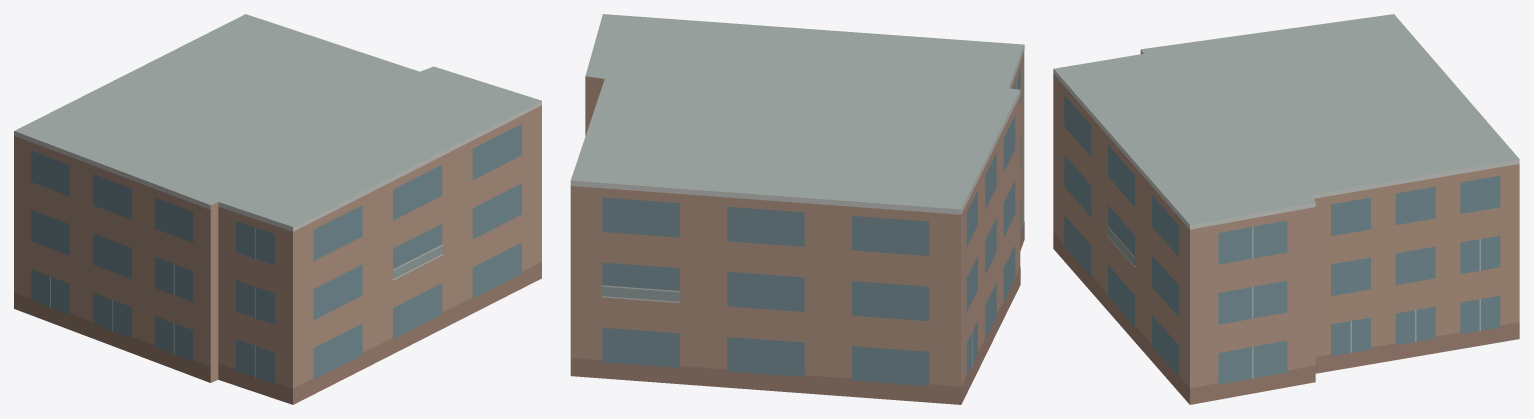
Rendered from survey-upis-32659093.glb.
The picture shows the model from 3 angles, left to right: view 1: azimuth 30°, elevation 25°; view 2: azimuth 150°, elevation 25°; view 3: azimuth 270°, elevation 25°; orthographic projection. The views are drawn at different scales.
Visible parts, largest first — view 1: survey-upis-32659093.tmp; view 2: survey-upis-32659093.tmp; view 3: survey-upis-32659093.tmp.
Boxes of the visible parts, x1=… form: survey-upis-32659093.tmp: x1=14, y1=14, x2=541, y2=404; survey-upis-32659093.tmp: x1=570, y1=14, x2=1024, y2=404; survey-upis-32659093.tmp: x1=1053, y1=14, x2=1519, y2=404.
Bounding box in the file's own units: 23 × 9.15 × 21.48.
